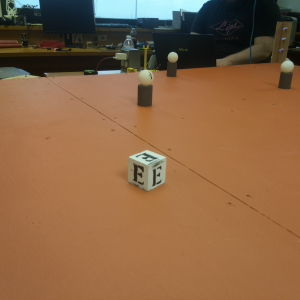blockE: (127, 149, 167, 191)
corner: (271, 21, 292, 65)
obstacle: (136, 70, 153, 108), (279, 59, 294, 91), (167, 51, 177, 77)
